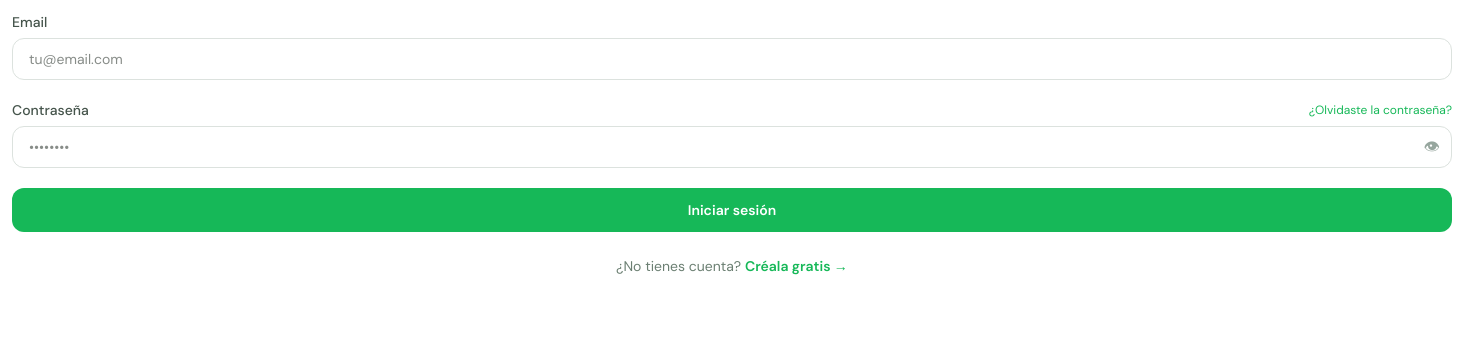
Test: LoginForm (LoginPage) › muestra mensaje de error si el login falla con credenciales incorrectas (401)
The width and height of the screenshot is (1464, 358).
In the field with placeholder "tu@email.com": [732, 59] box [12, 38, 1452, 80], type "ana@example.com"
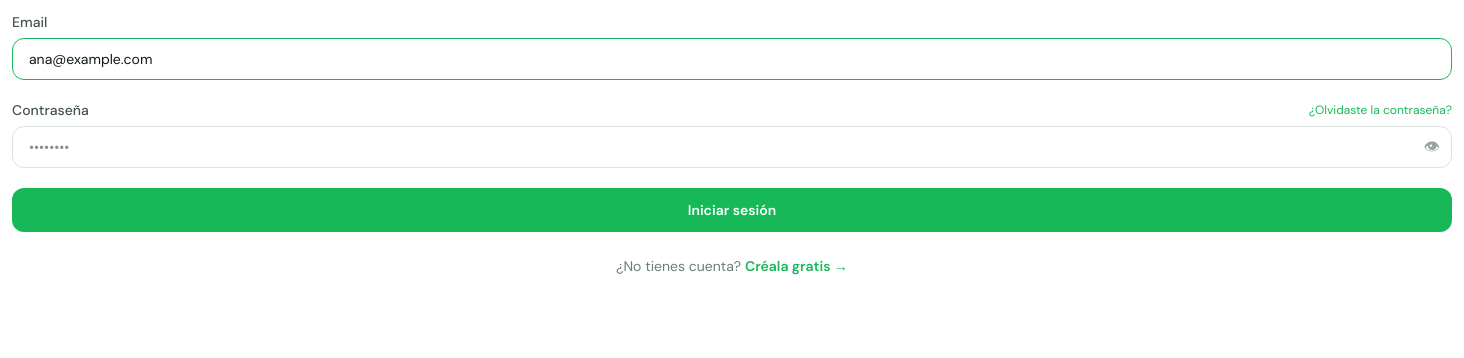
In the password field with placeholder "••••••••": [732, 147] box [12, 126, 1452, 168], type "wrongpassword"
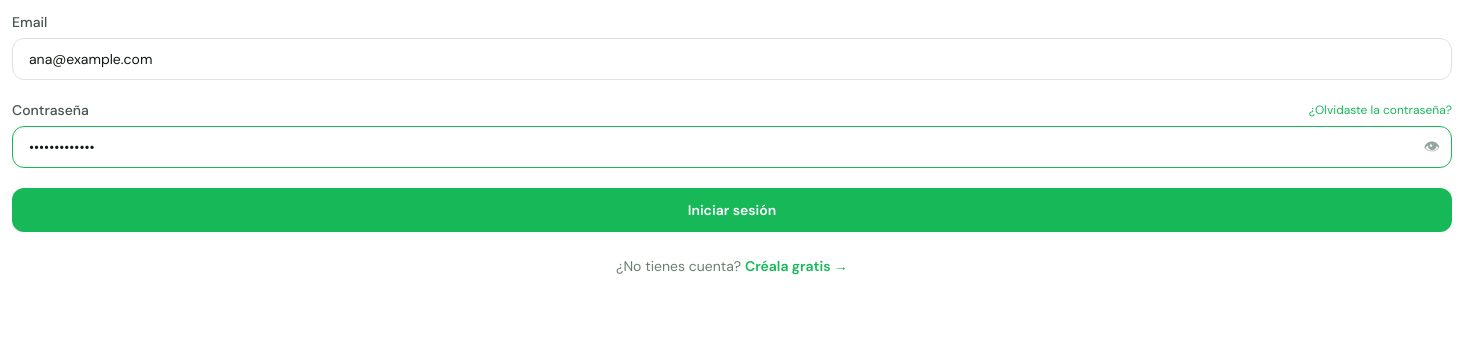
Click the button "Iniciar sesión": [732, 210] box [12, 188, 1452, 232]
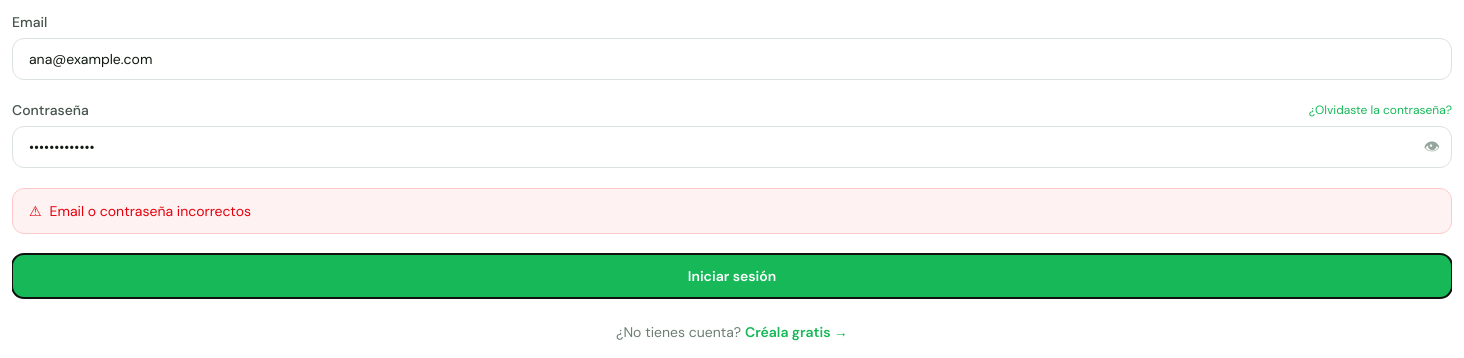
Expected: the text "Email o contraseña incorrectos" is shown, [50, 201, 251, 221]
